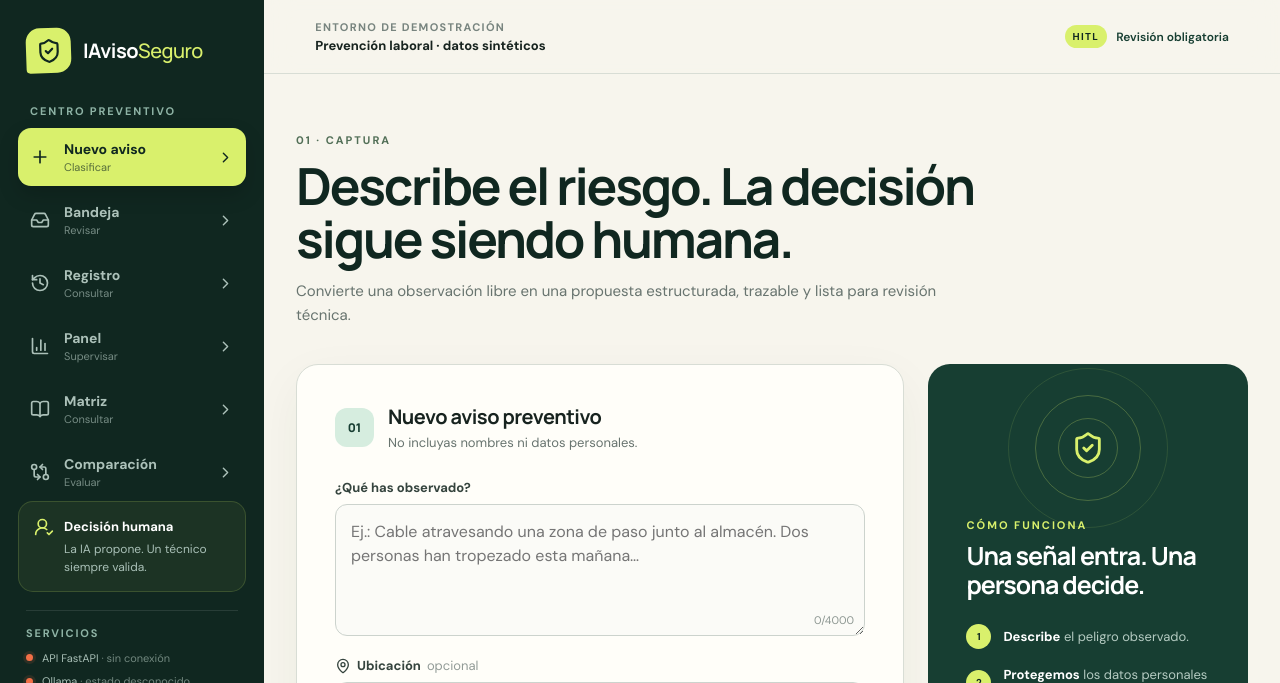
Scenario: IAviso Seguro › compara velocidad solo con resultados válidos: ambos proveedores fallan
The width and height of the screenshot is (1280, 683).
Click the button "Comparación Evaluar": (132,472) [18, 443, 246, 501]
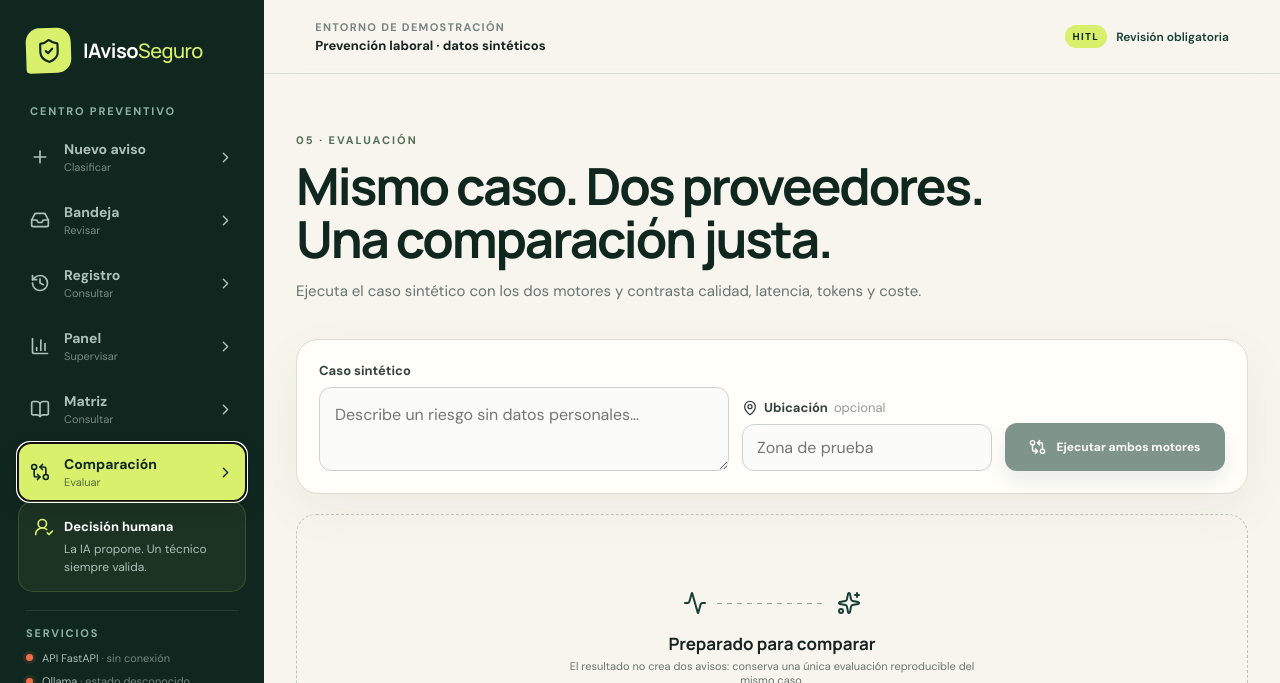
In the text box labelled "Caso sintético": (524,429) [319, 387, 729, 471], type "Cable expuesto"
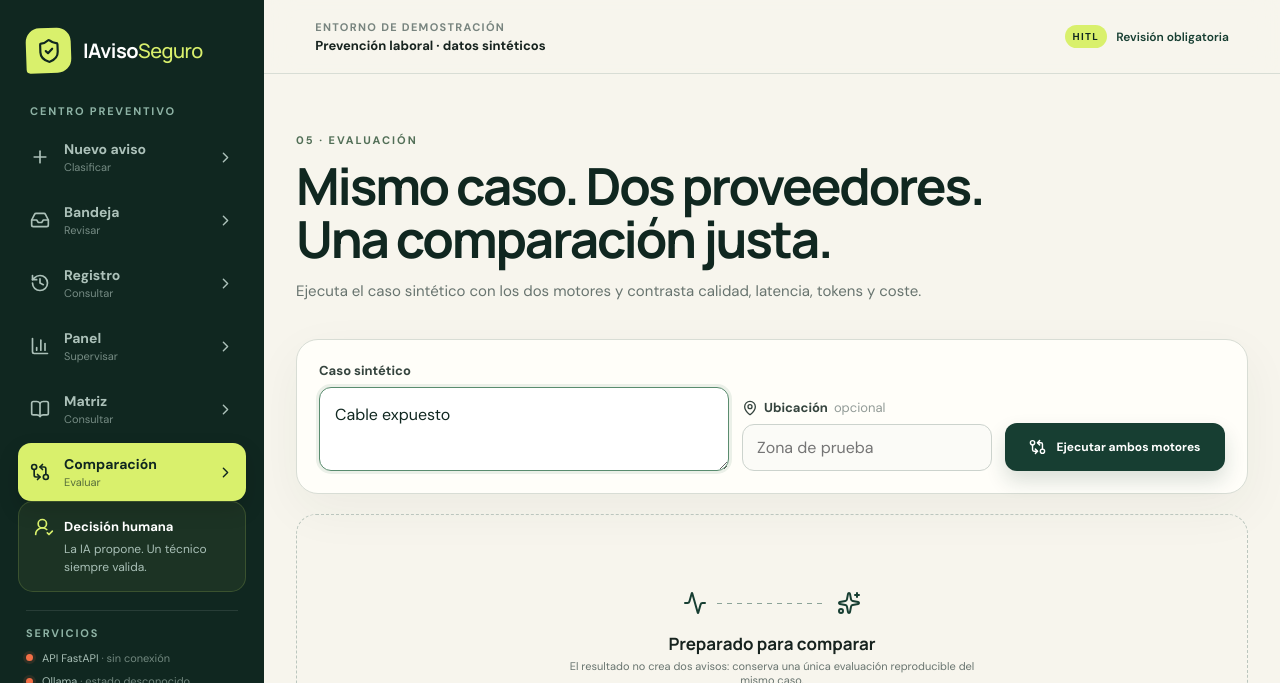
Click the button "Ejecutar ambos motores": (1115,447) [1005, 423, 1225, 471]
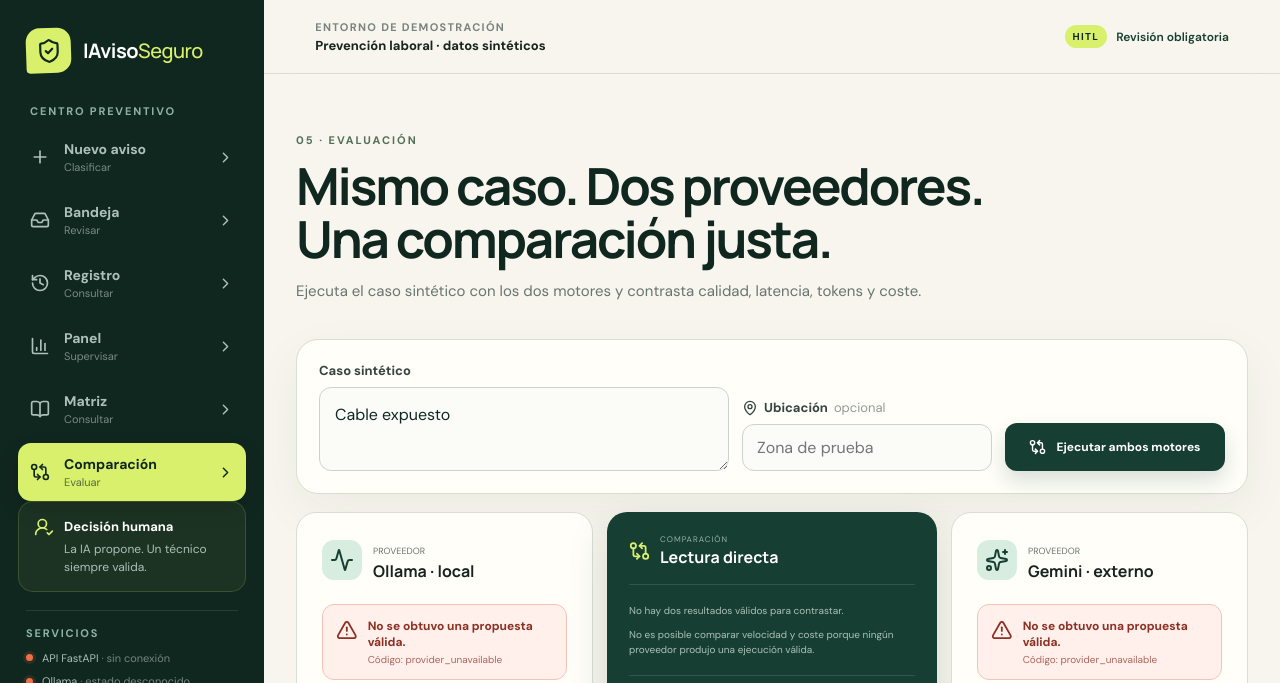
Check: the text "ningún proveedor produjo una ejecución válida" is shown, box [629, 628, 894, 656]
